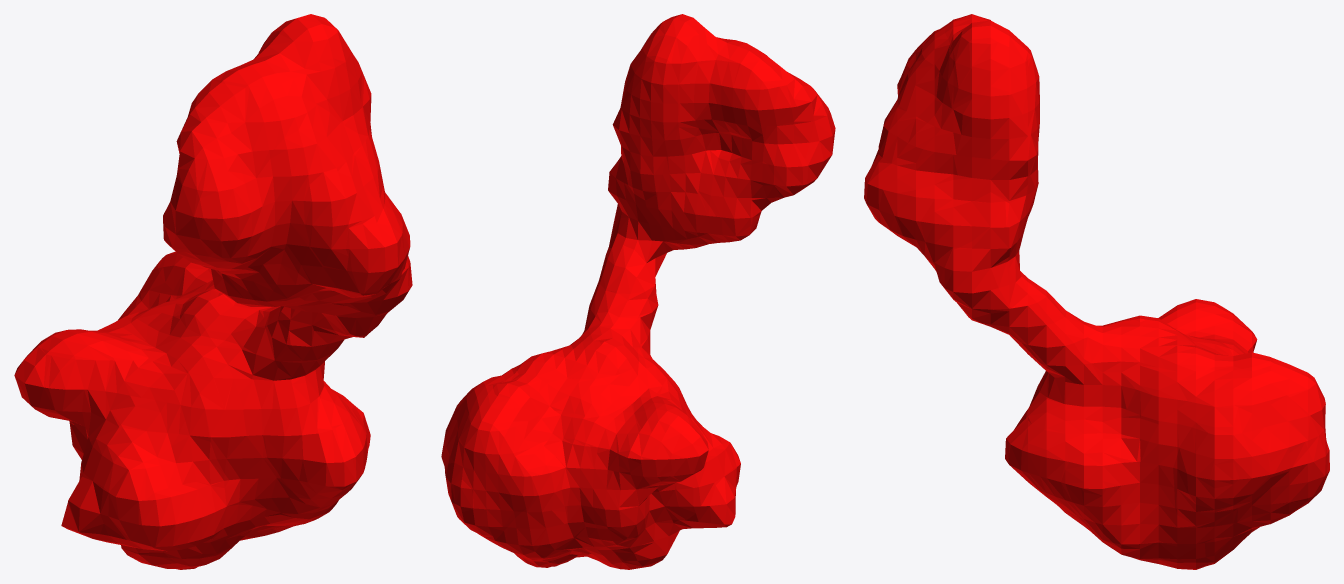
File: lasT_coarse.dae
The picture shows the model from 3 angles, left to right: view 1: azimuth 30°, elevation 25°; view 2: azimuth 150°, elevation 25°; view 3: azimuth 270°, elevation 25°; orthographic projection. The views are drawn at different scales.
Parts seen in each view (by area): view 1: lasT; view 2: lasT; view 3: lasT.
Part boxes in pixels (box(x1,y1,x2,y2)): lasT: box(14, 14, 412, 569); lasT: box(441, 14, 835, 569); lasT: box(864, 14, 1329, 569).
Bounding box in the file's own units: 45.36 × 85.96 × 69.21.
